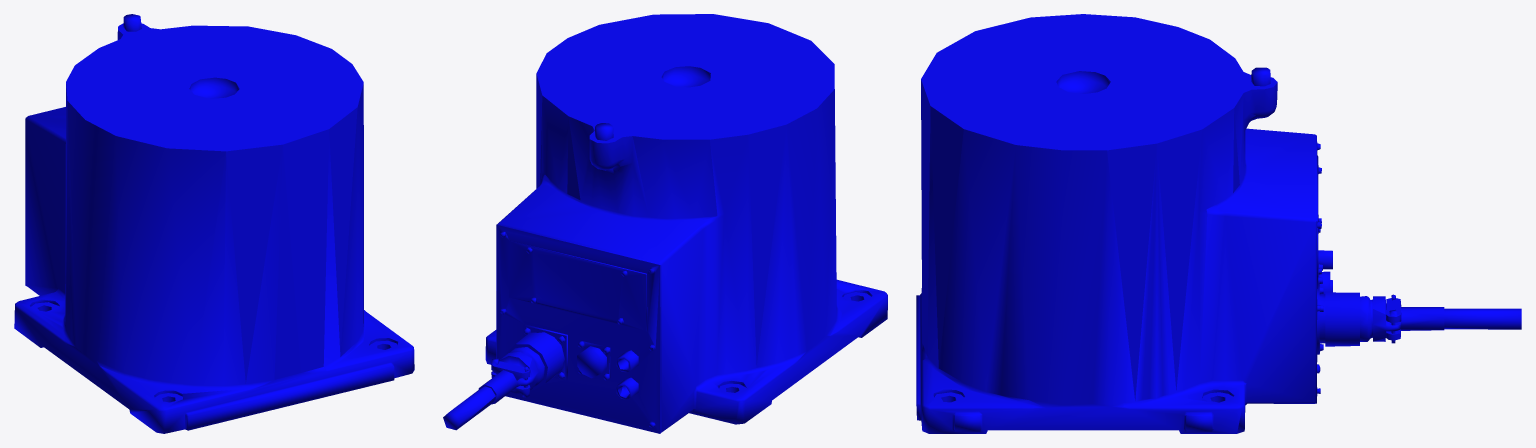
3 renders of one model, left to right at view 1: azimuth 30°, elevation 25°; view 2: azimuth 150°, elevation 25°; view 3: azimuth 270°, elevation 25°, orthographic. The views are drawn at different scales.
Visible parts, largest first — view 1: base_link; view 2: base_link; view 3: base_link.
Boxes of the visible parts, box(x1,y1,x2,y2) form: base_link: box(14, 14, 414, 433); base_link: box(443, 14, 887, 433); base_link: box(916, 14, 1521, 433).
Bounding box in the file's own units: 0.3054 × 0.5616 × 0.3018.
